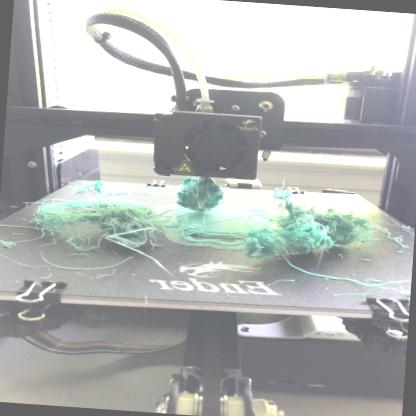fail: (35, 196, 163, 261)
